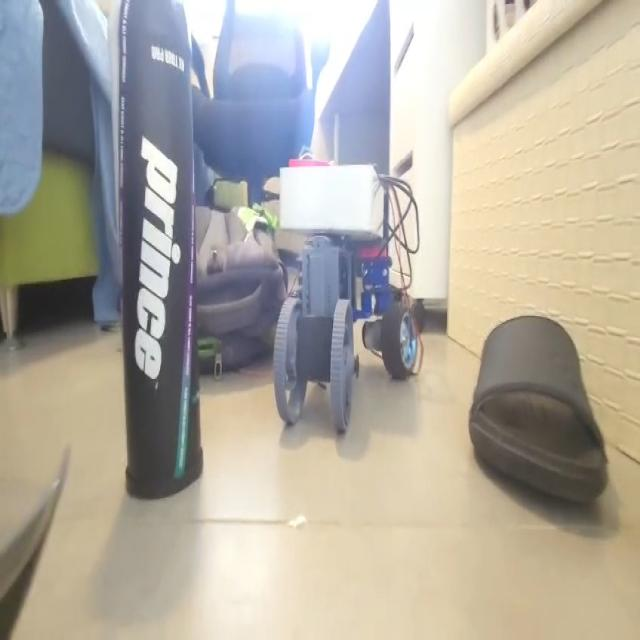Robot: (273, 156, 417, 432)
